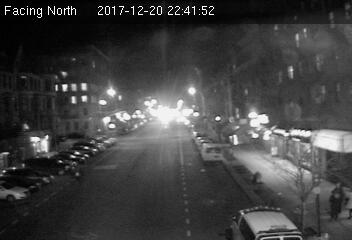police: (227, 203, 306, 240)
truck: (201, 142, 221, 164)
